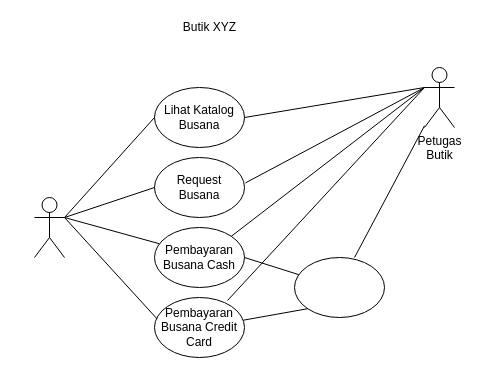
Some shapes in this 479 by 375 pixel diagram are drawn without their labels. Each missing label, with the box of its shape:
Diskon 10% Pembelian 500.000: (294, 256, 384, 318)
Pengunjung: (34, 196, 64, 258)
